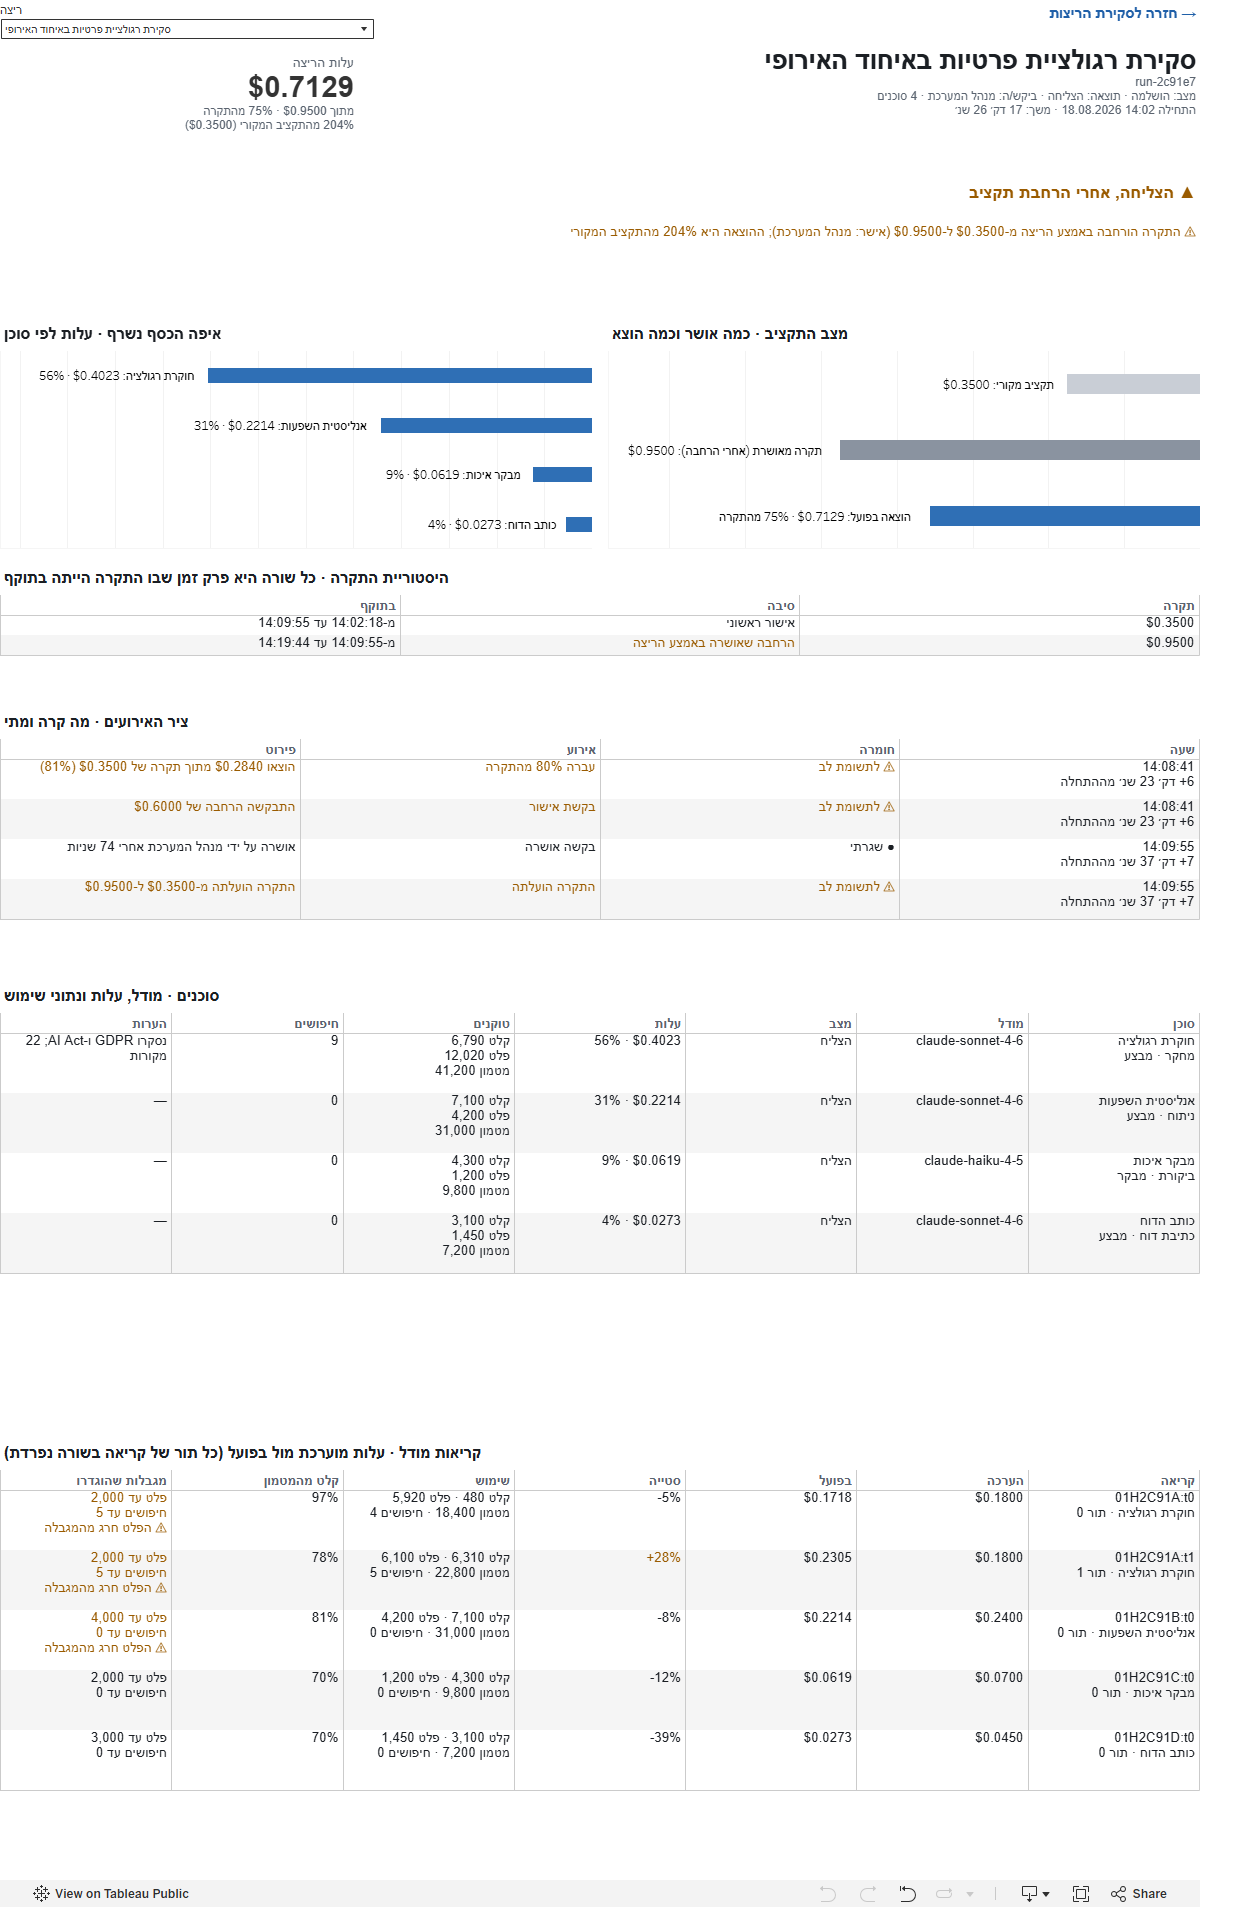

The dashboard page shown, as its layout file describes it:
{"tool":"tableau","page":{"name":"פרטי ריצה","canvas":[1200,1880],"ordinal":1},"visuals":[{"type":"parameter","param":"[Parameters].[pRun]","box":[24,6,480,52]},{"type":"worksheet","title":"חזרה","mark":"Text","box":[876,10,300,34]},{"type":"worksheet","title":"כותרת ריצה","mark":"Text","box":[384,50,792,134]},{"type":"worksheet","title":"עלות הריצה","mark":"Text","box":[24,60,344,248]},{"type":"worksheet","title":"פסק הדין","mark":"Text","box":[384,186,792,40]},{"type":"worksheet","title":"סיבות","mark":"Text","box":[384,228,792,84]},{"type":"worksheet","title":"עלות לפי סוכן","mark":"Bar","rows":["node_order"],"cols":["cost_micro_usd"],"box":[24,320,568,230]},{"type":"worksheet","title":"מצב התקציב","mark":"Bar","rows":["bar_order"],"cols":["value_micro_usd"],"box":[608,320,568,230]},{"type":"worksheet","title":"היסטוריית התקרה","mark":"Text","rows":["row_order"],"cols":["col_pos","col_header"],"box":[24,562,1152,130]},{"type":"worksheet","title":"ציר אירועים","mark":"Text","rows":["row_order"],"cols":["col_pos","col_header"],"box":[24,704,1152,260]},{"type":"worksheet","title":"סוכנים","mark":"Text","rows":["row_order"],"cols":["col_pos","col_header"],"box":[24,976,1152,440]},{"type":"worksheet","title":"קריאות מודל","mark":"Text","rows":["row_order"],"cols":["col_pos","col_header"],"box":[24,1428,1152,440]}]}

Visuals, with their boxes on the page's 1200x1880 design canvas (x1, y1, x2, y2). These are canvas units, not pixel positions in the 1240x1920 screenshot, which may show the page scaled, cropped or inside an application window:
parameter: 24/6/504/58
"חזרה" worksheet (Text marks): 876/10/1176/44
"כותרת ריצה" worksheet (Text marks): 384/50/1176/184
"עלות הריצה" worksheet (Text marks): 24/60/368/308
"פסק הדין" worksheet (Text marks): 384/186/1176/226
"סיבות" worksheet (Text marks): 384/228/1176/312
"עלות לפי סוכן" worksheet (Bar marks): 24/320/592/550
"מצב התקציב" worksheet (Bar marks): 608/320/1176/550
"היסטוריית התקרה" worksheet (Text marks): 24/562/1176/692
"ציר אירועים" worksheet (Text marks): 24/704/1176/964
"סוכנים" worksheet (Text marks): 24/976/1176/1416
"קריאות מודל" worksheet (Text marks): 24/1428/1176/1868
